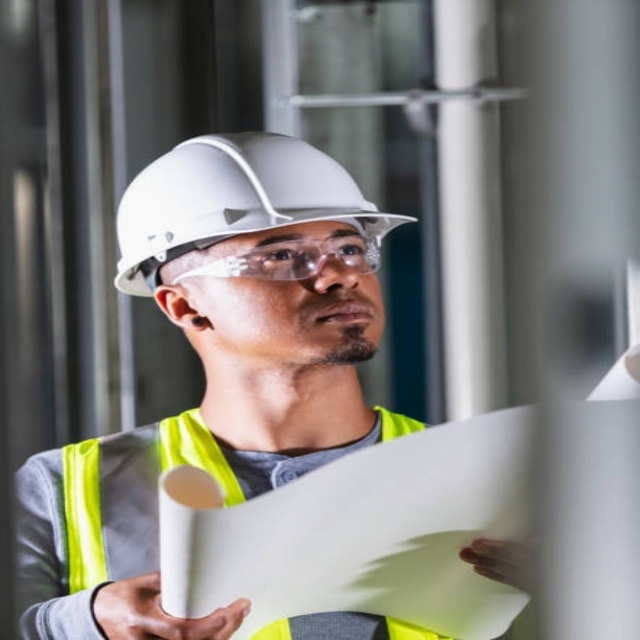Gafas: (160, 231, 390, 289)
Sin_guantes: (93, 569, 251, 640), (458, 533, 537, 595)
Sin_mascara: (295, 294, 382, 352)
